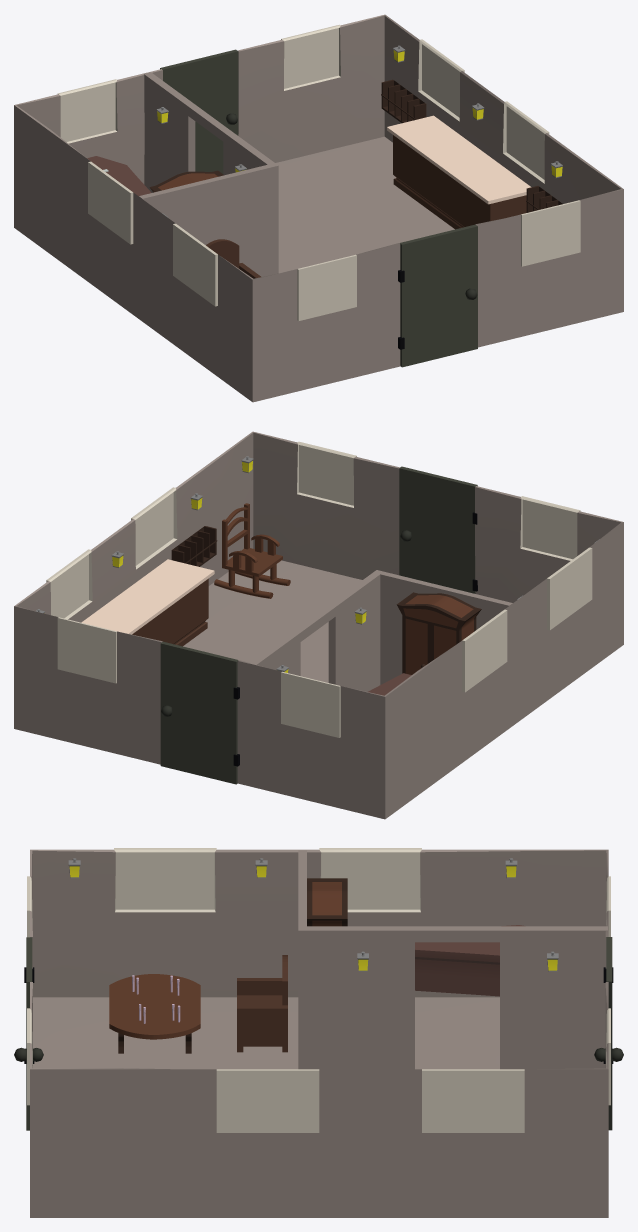
File: OpenHouse.fbx
3 views of the same model, one above another, from view 1: azimuth 30°, elevation 25°; view 2: azimuth 150°, elevation 25°; view 3: azimuth 270°, elevation 25° (orthographic). The views are drawn at different scales.
Parts seen in each view (by area): view 1: OpenHouse, Door1 Open, Door2 Open; view 2: OpenHouse, Door2 Open, Door1 Open; view 3: OpenHouse, Door2 Open, Door1 Open.
Boxes of the visible parts, x1,y1,x2,y2 form: OpenHouse: (14,14,623,402); Door1 Open: (400,224,477,367); Door2 Open: (160,49,238,173); OpenHouse: (14,431,623,819); Door2 Open: (160,641,238,784); Door1 Open: (399,466,477,593); OpenHouse: (24,848,613,1217); Door2 Open: (594,937,623,1130); Door1 Open: (14,937,43,1130).
Bounding box in the file's own units: 824 × 257 × 954.
